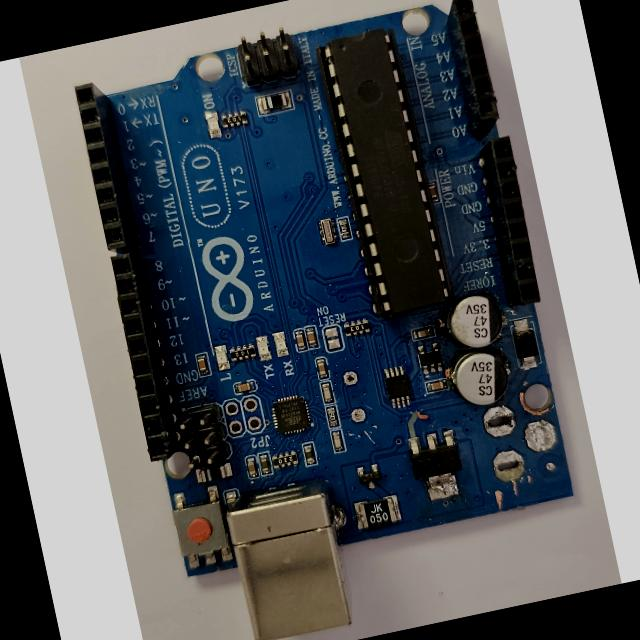missing_crystal_os: (329, 354, 378, 451)
missing_eps: (473, 400, 536, 507)
